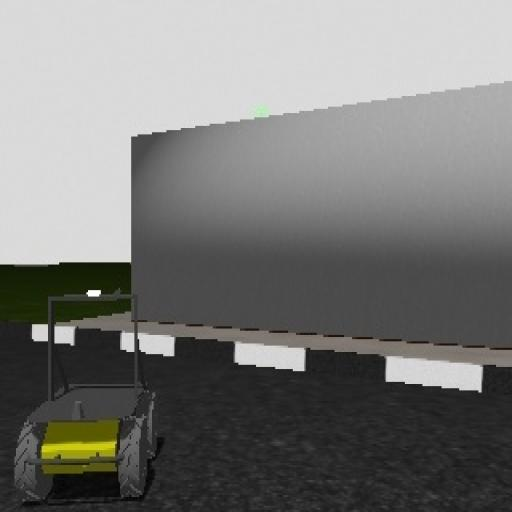huskya200: (11, 279, 163, 512)
